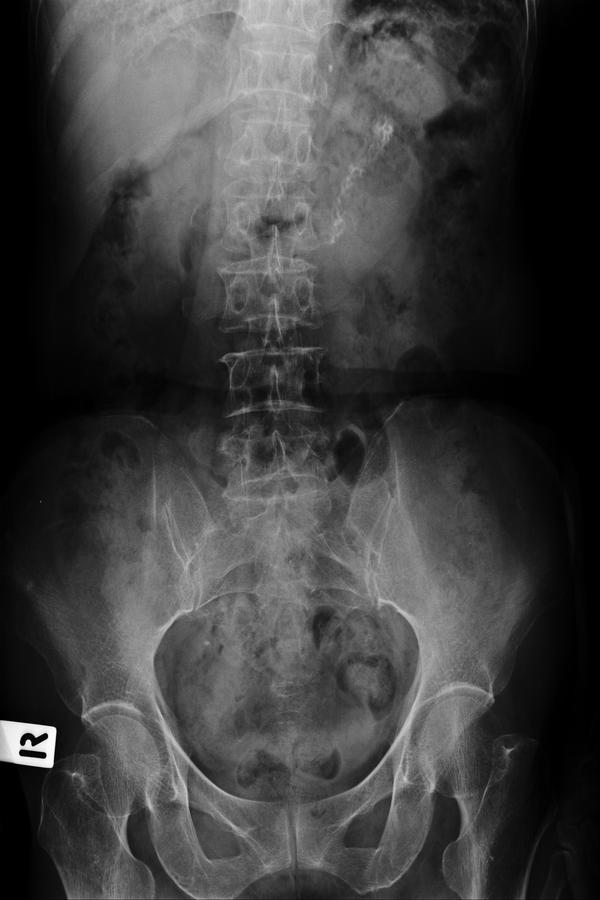lumbar scoliosis: (219, 108, 350, 497)
